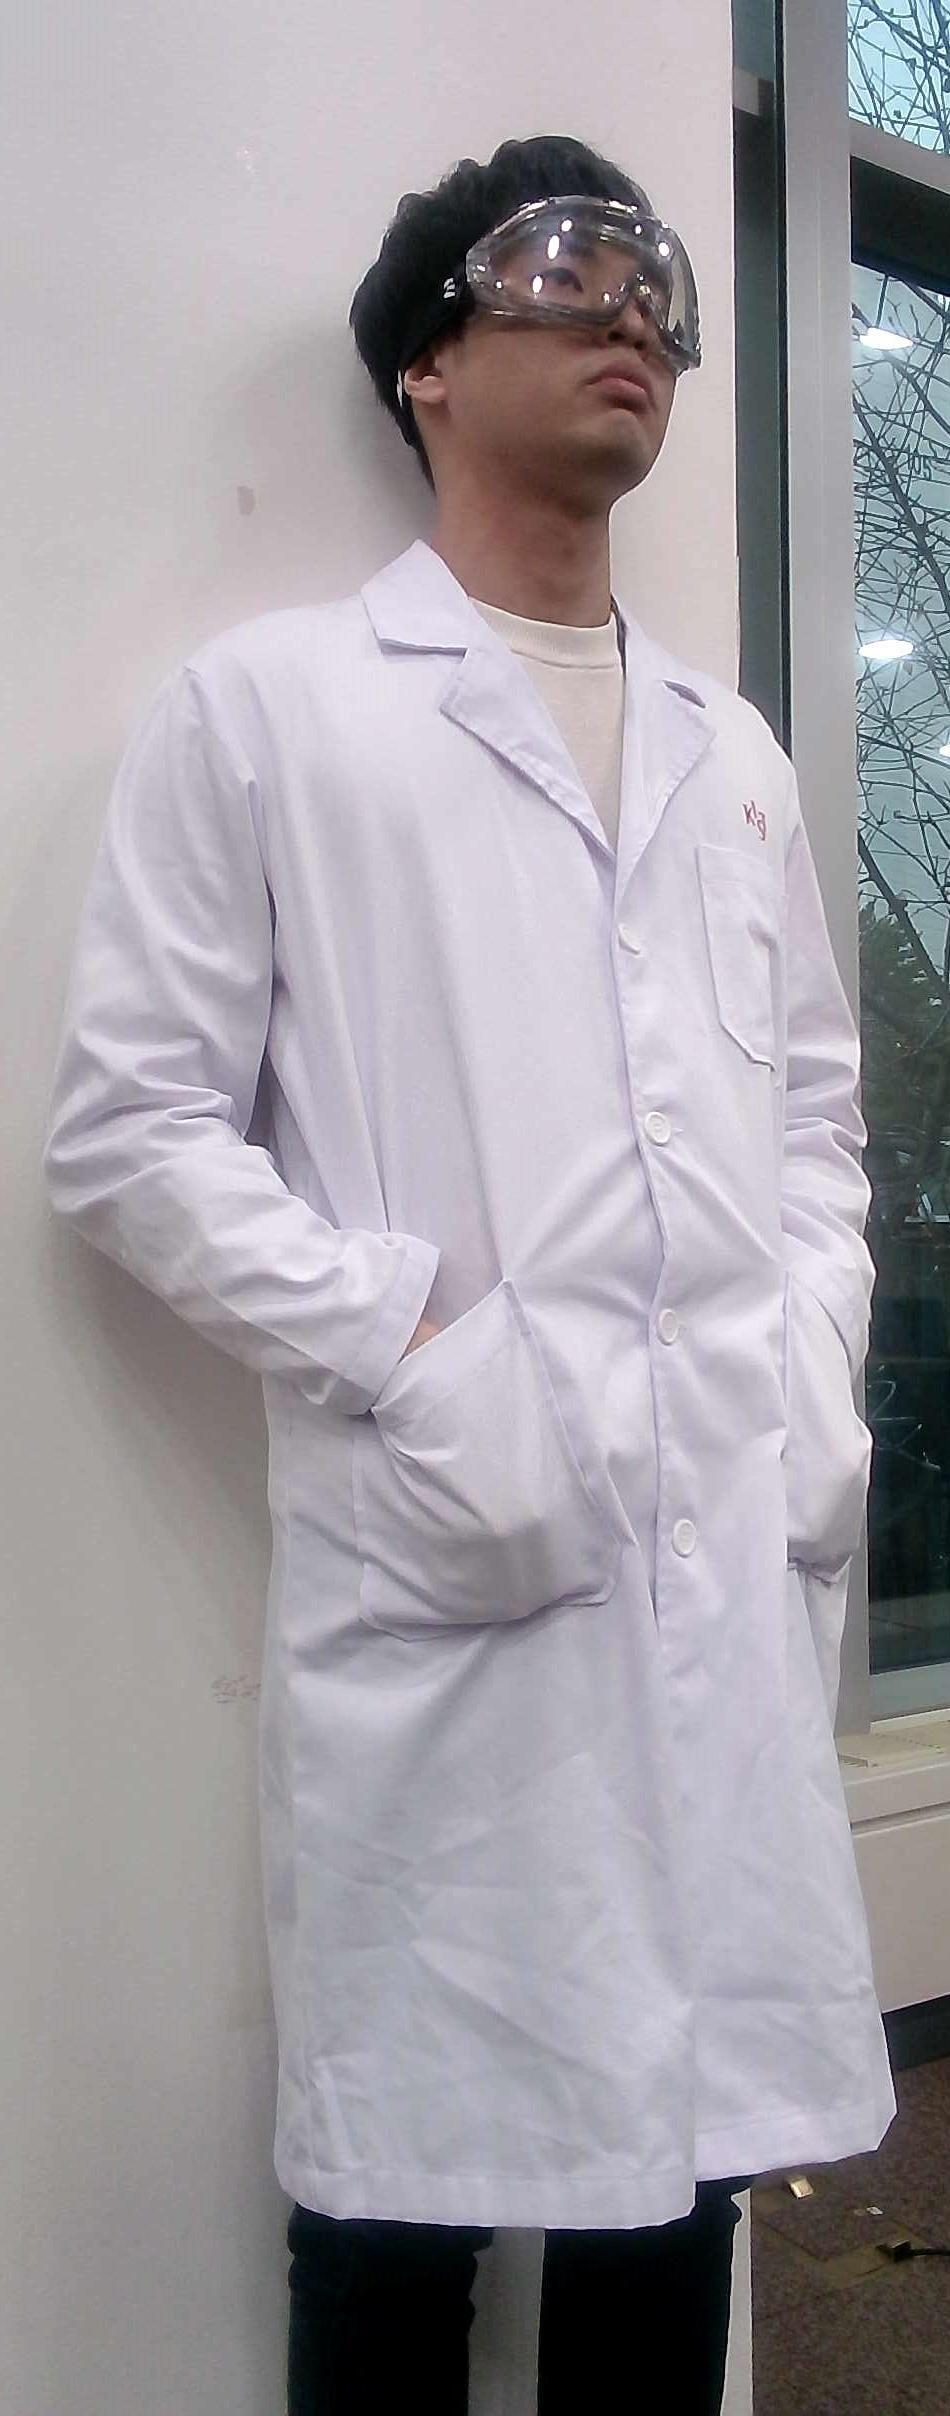lab_coat: (180, 750, 856, 2166)
